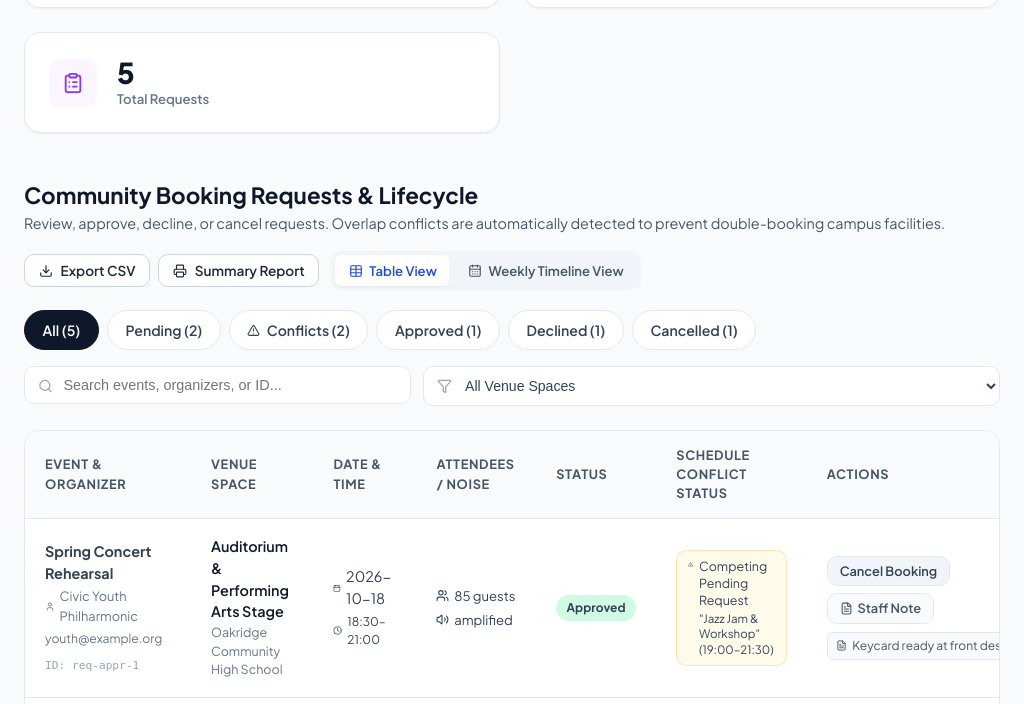
Test: StaffDashboardPage & Request Lifecycle › filters requests when clicking status tabs
The width and height of the screenshot is (1024, 704).
(page scrolled)
// Click Pending tab
Click the tab "Pending (2)": (164, 330) [107,310,221,350]
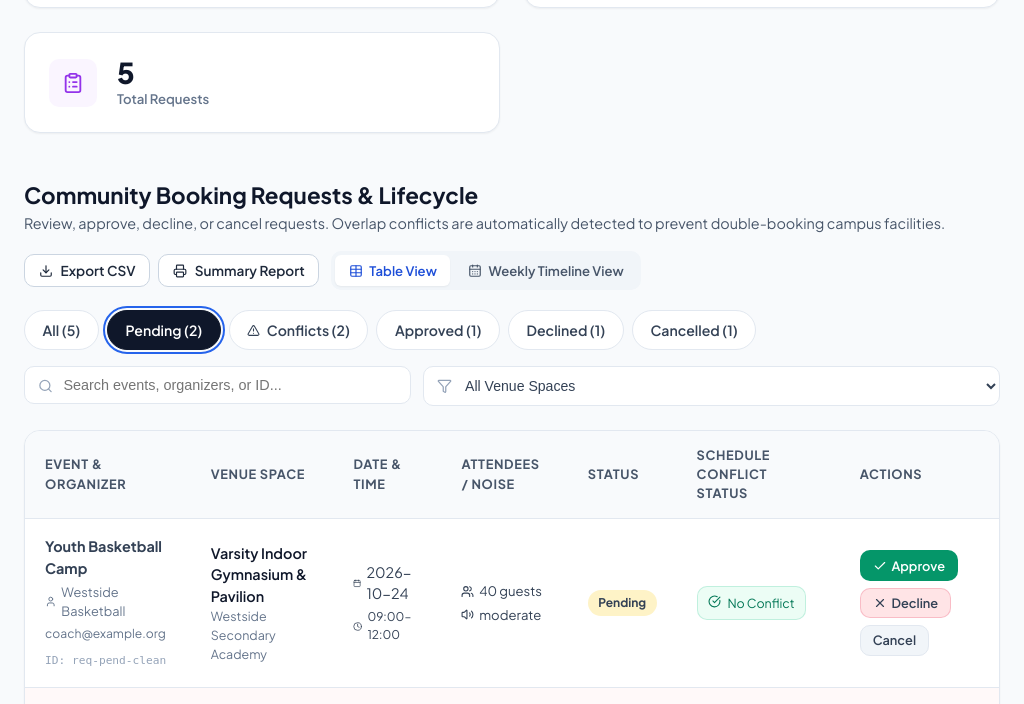
Expected: the text "Youth Basketball Camp" is shown, [45,536,171,580]
// Click Conflicts tab
Click the tab "Conflicts (2)": (299, 330) [229,310,368,350]
(page scrolled)
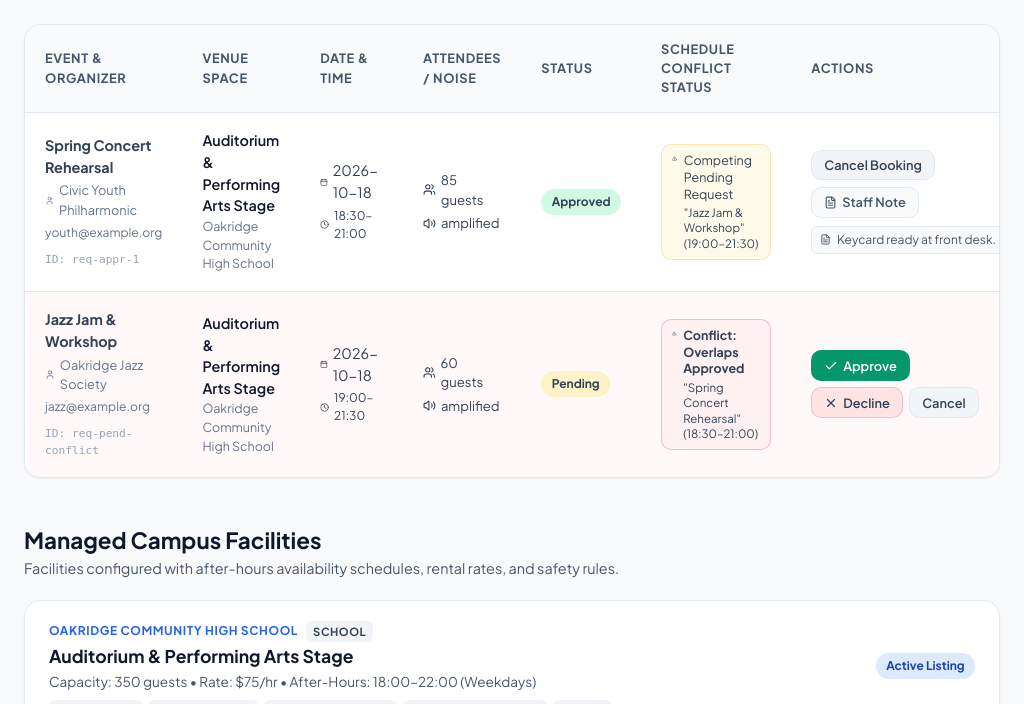
Expected: the text "Jazz Jam & Workshop" is shown, [45,310,117,350]
Now the text "Youth Basketball Camp" is gone
